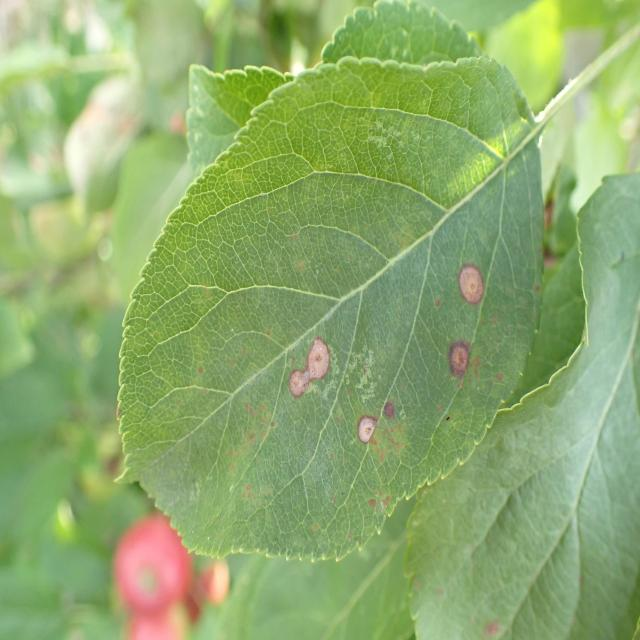frog-eye-leaf-spot: (113, 52, 545, 564)
